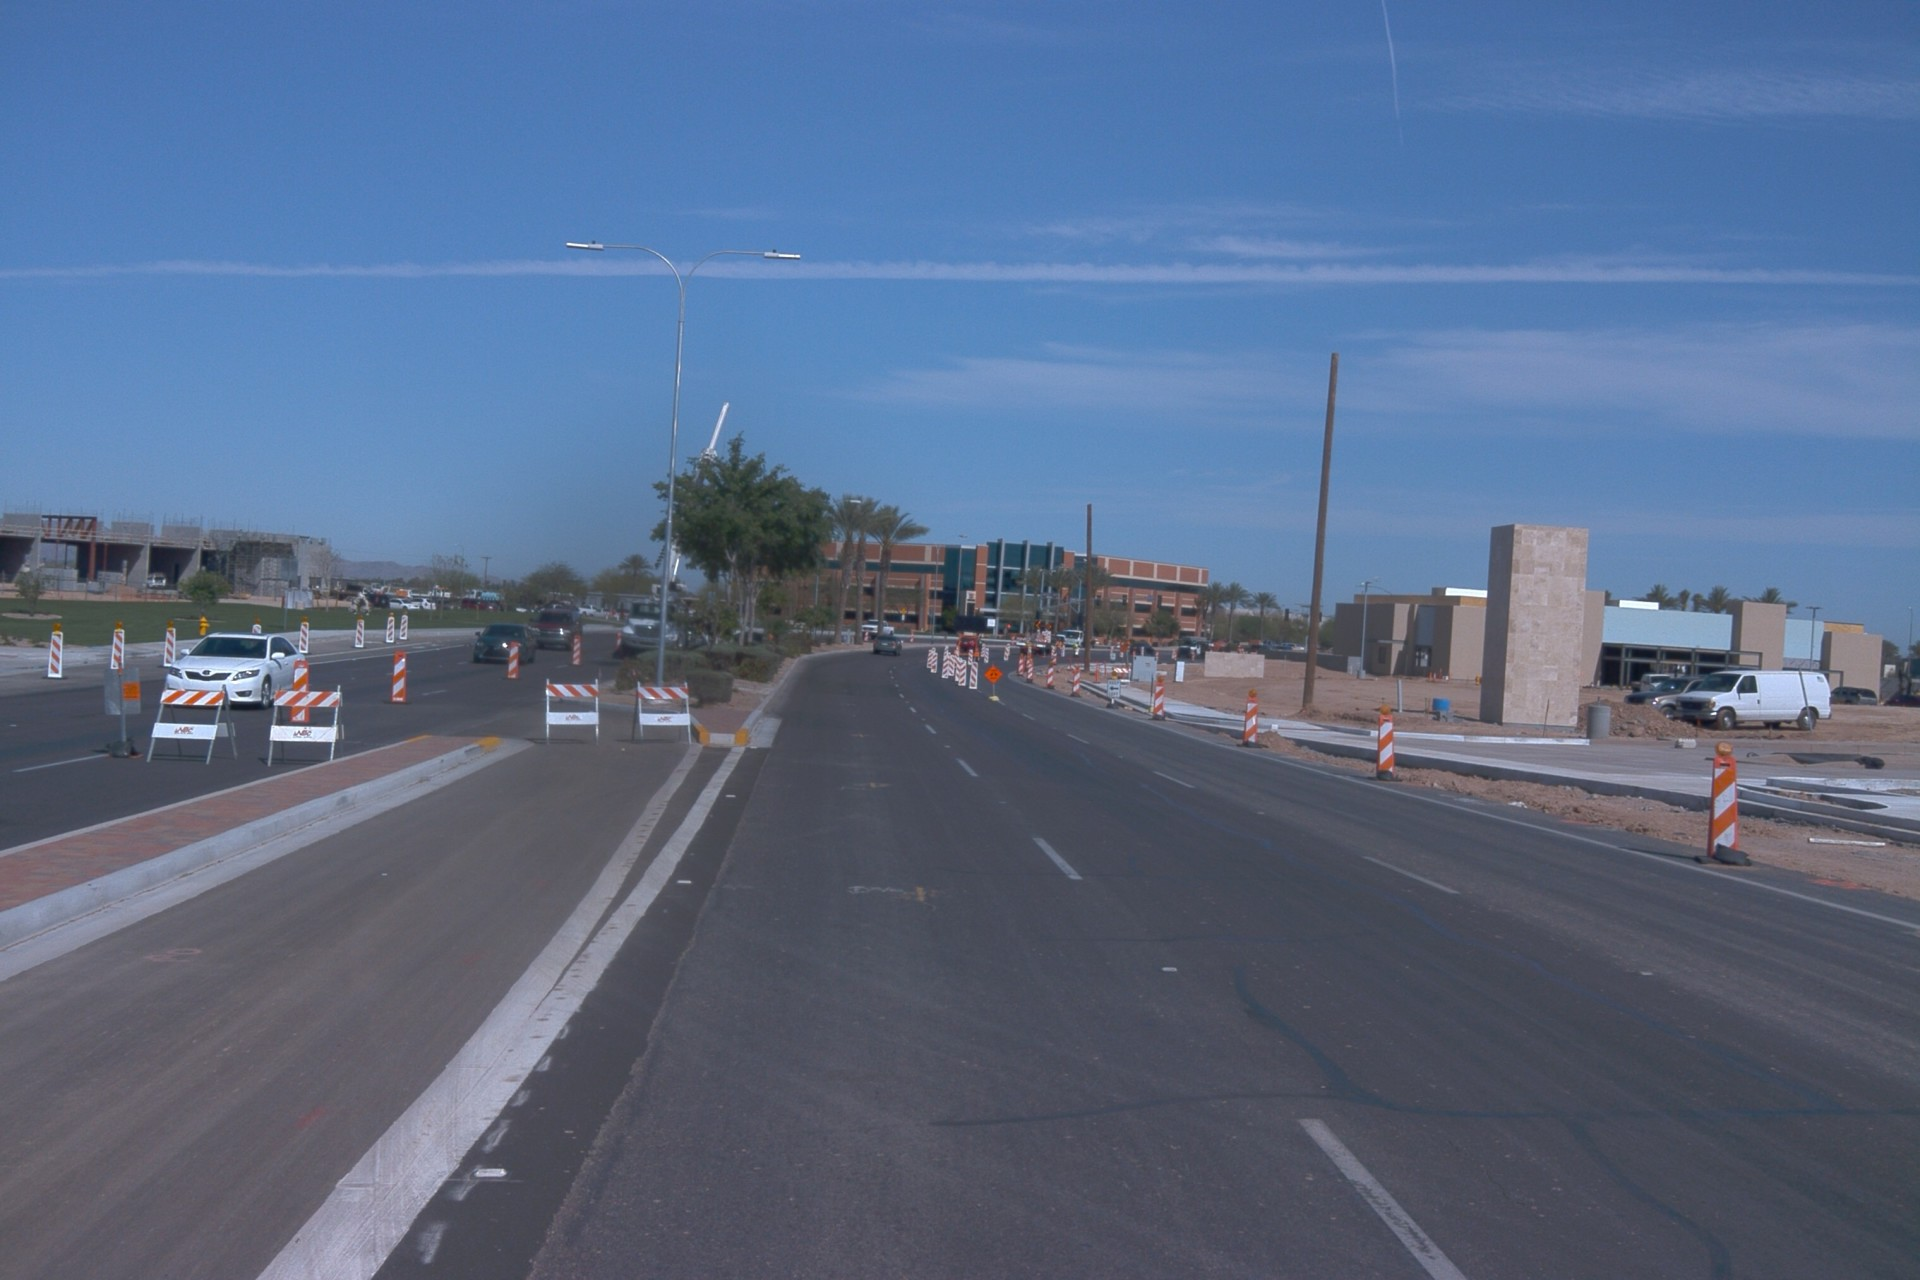TYPE_PEDESTRIAN: (1071, 642, 1080, 661)
TYPE_VEHICLE: (609, 392, 739, 664), (159, 630, 309, 707), (1671, 670, 1834, 734), (1620, 676, 1702, 722), (525, 603, 584, 651), (474, 620, 535, 663), (950, 611, 993, 670), (1013, 630, 1058, 661), (1176, 636, 1226, 661), (1056, 629, 1101, 652), (1828, 687, 1878, 707), (1633, 669, 1672, 694), (332, 583, 373, 606), (859, 616, 897, 640), (456, 596, 501, 616), (871, 632, 903, 657), (357, 591, 394, 610), (1884, 693, 1920, 709), (435, 595, 464, 614), (387, 594, 419, 610), (146, 578, 167, 602), (408, 596, 437, 613), (953, 637, 976, 654), (1271, 646, 1296, 655)
